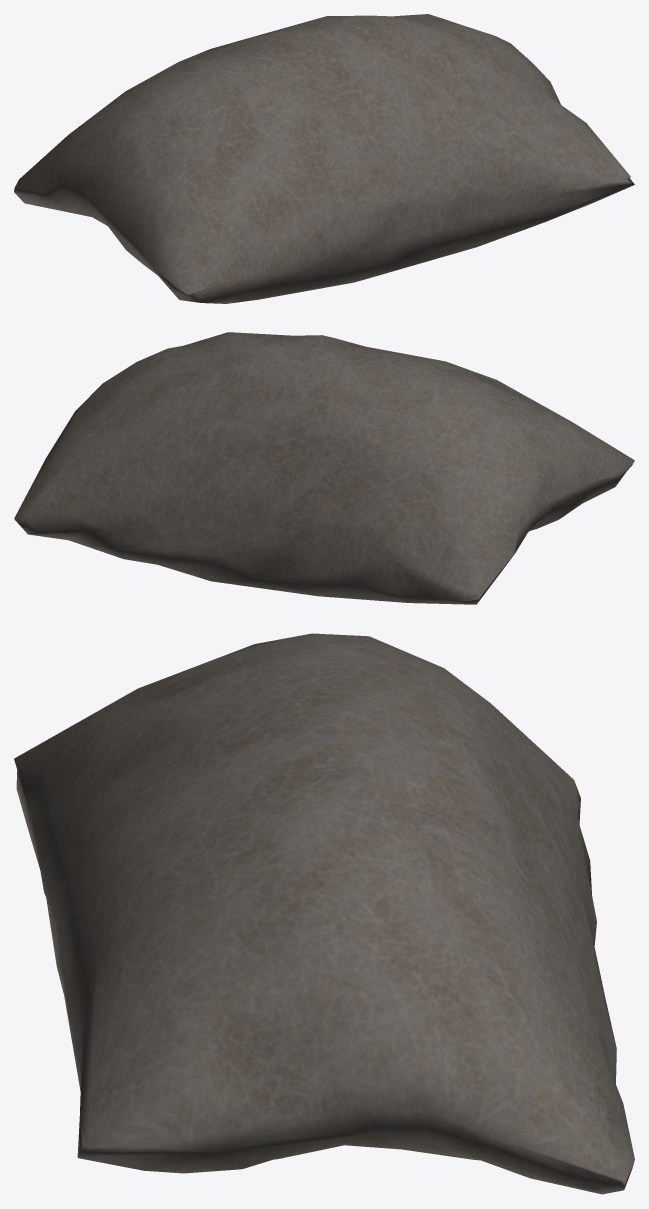
The model's file is SM_Sack_02.fbx.
3 views of the same model, one above another, from view 1: azimuth 30°, elevation 25°; view 2: azimuth 150°, elevation 25°; view 3: azimuth 270°, elevation 25° (orthographic). The views are drawn at different scales.
Visible parts, largest first — view 1: SM_Sack_02_LOD0; view 2: SM_Sack_02_LOD0; view 3: SM_Sack_02_LOD0.
Boxes of the visible parts, bbox=[...] form: SM_Sack_02_LOD0: bbox=[14, 14, 634, 303]; SM_Sack_02_LOD0: bbox=[14, 332, 634, 604]; SM_Sack_02_LOD0: bbox=[14, 633, 634, 1194].
Size of the model in its own units: 61.09 by 42.34 by 25.68.
Materials: 1 (1 with a texture image).
